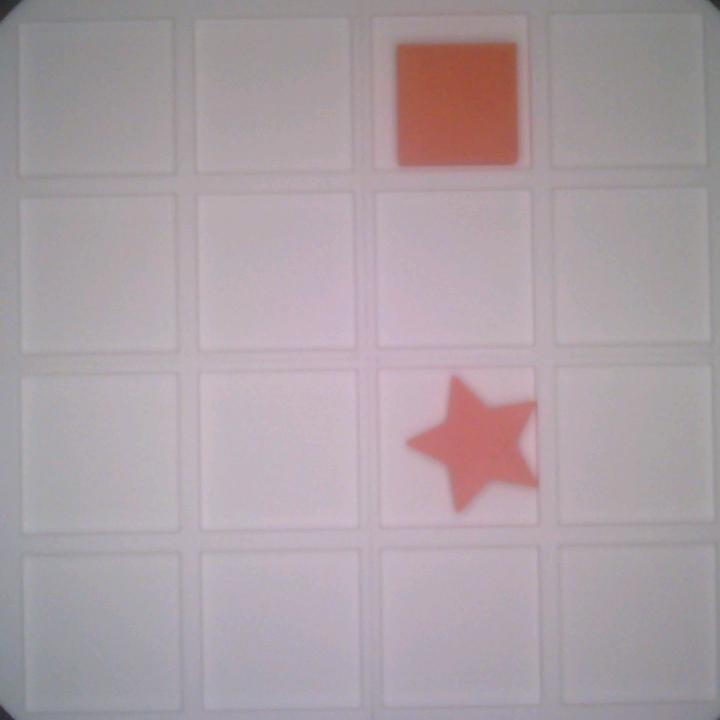Orange square: (394, 38, 522, 169)
Orange star: (405, 373, 537, 515)
